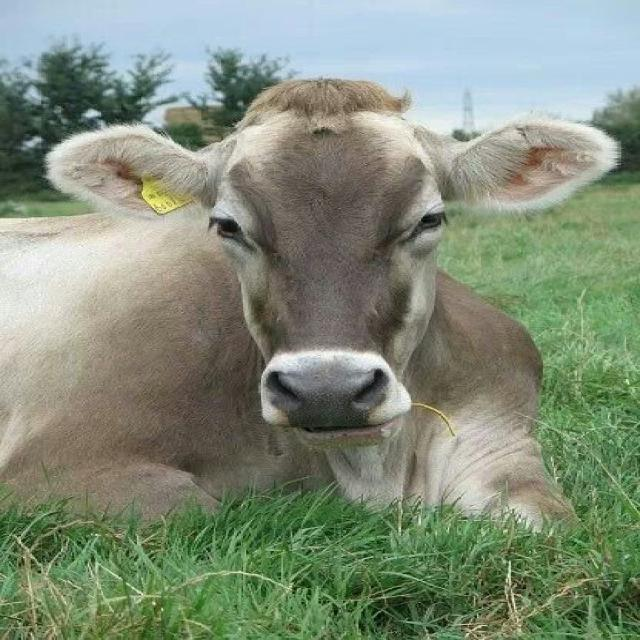cowFace: (35, 35, 600, 461)
